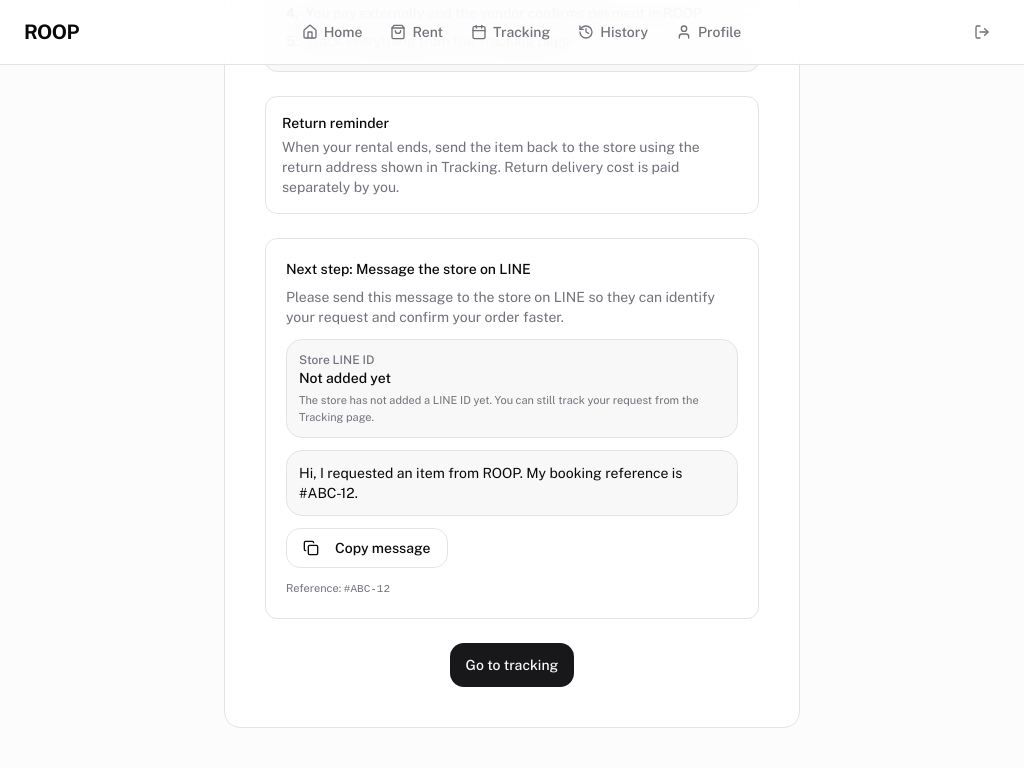
Test: OrderRequestSent LINE instructions › copies the generated message to clipboard and shows feedback
This screenshot has width=1024, height=768.
(page scrolled)
What coordinates should you click on to do the following:
click the button "Copy message"
I would click on:
 (367, 548)
Its box is [286,528,448,568].
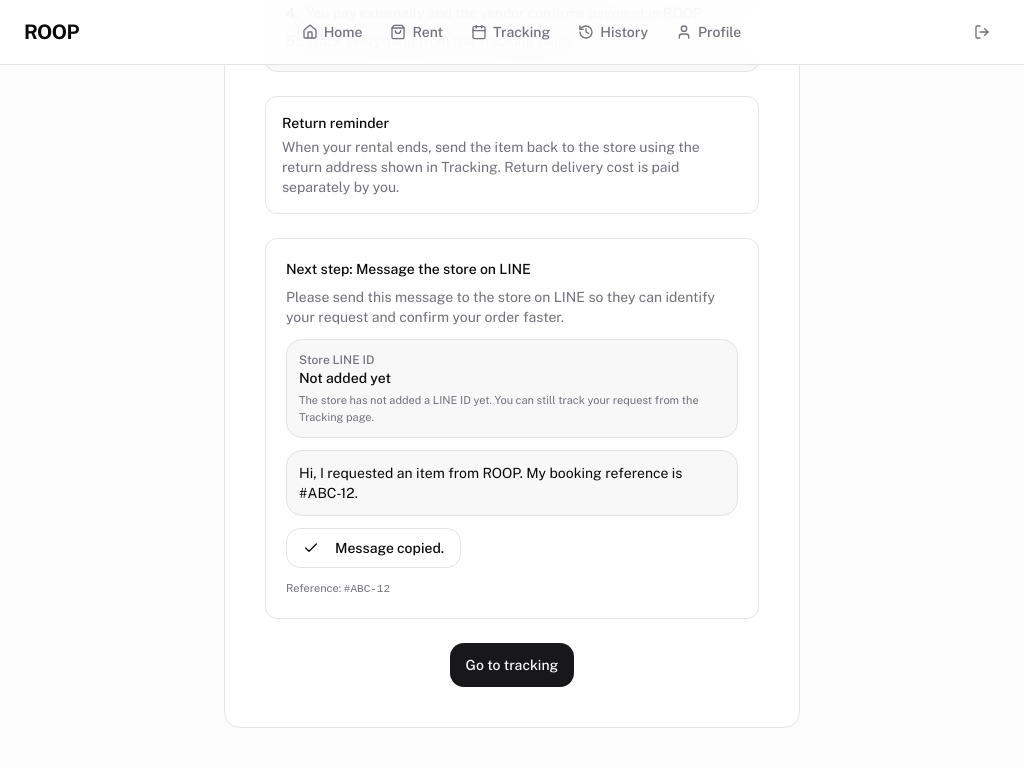
Now the button "Message copied." is shown, box [286,528,461,568]
